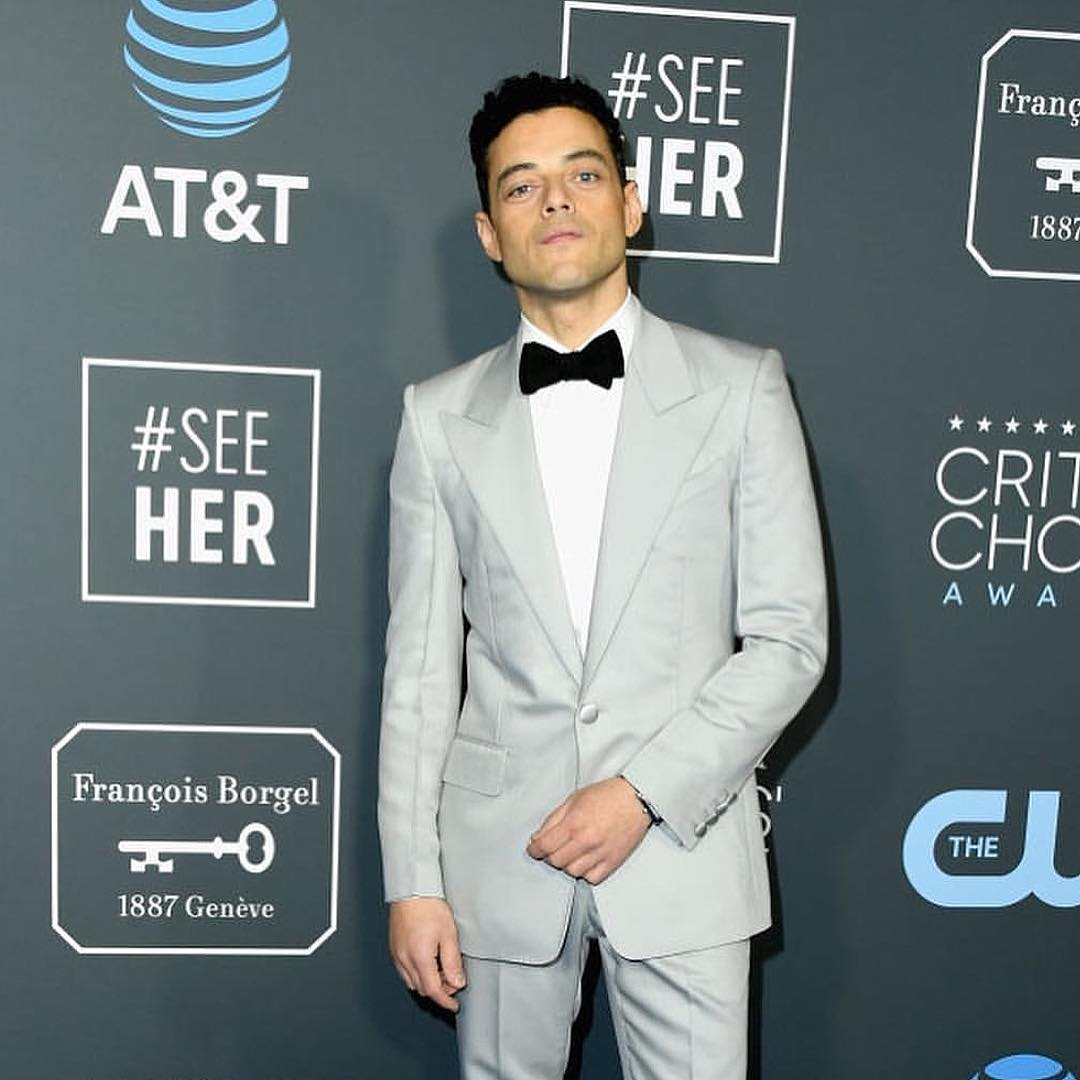hand: (395, 888, 460, 1001)
